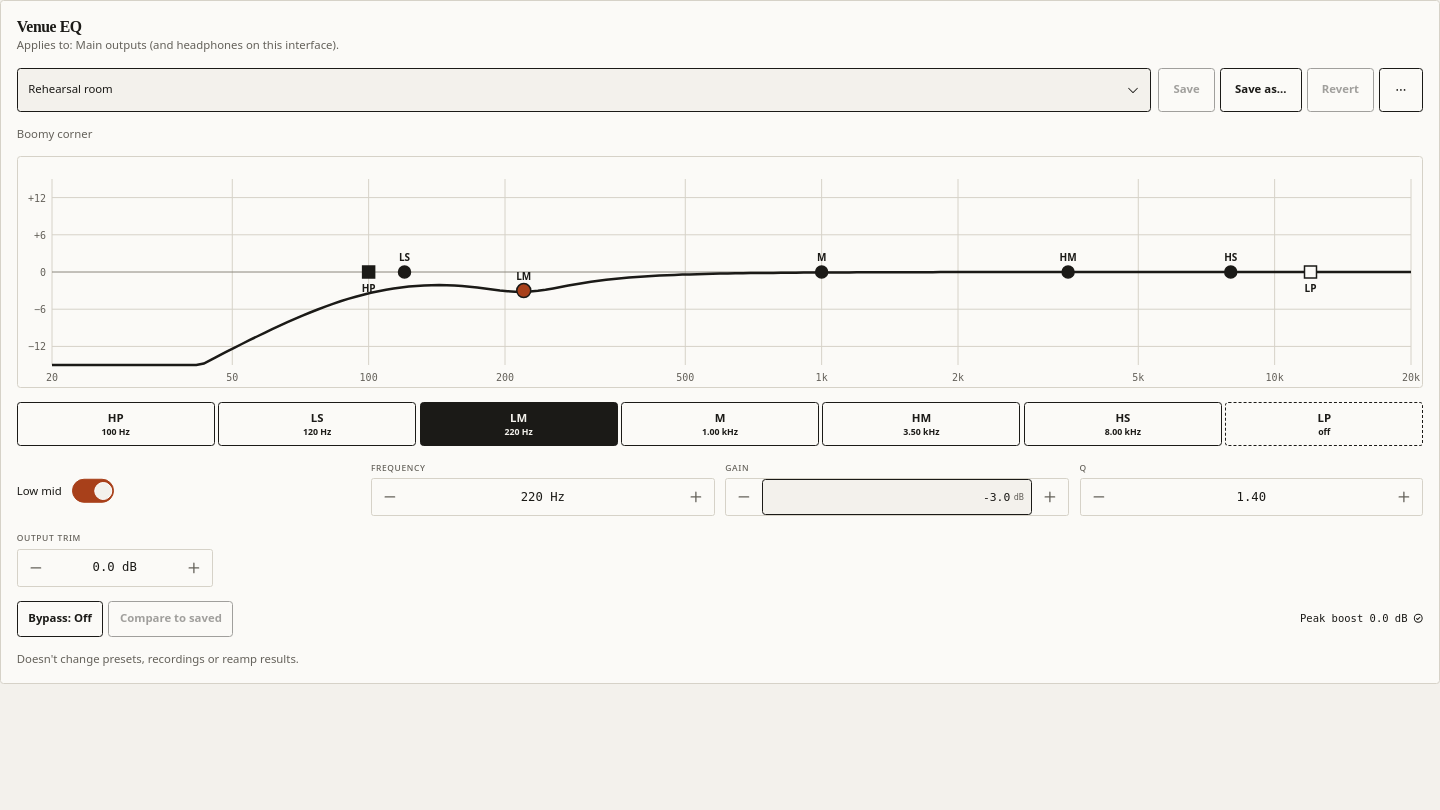
treats a 423 refusal as Protect
Check: the dropdown named "Venue profile" is shown, box x1=17 y1=68 x2=1152 y2=112
Click the button "Bypass: Off". click: (60, 619)
box: x1=17 y1=601 x2=103 y2=637
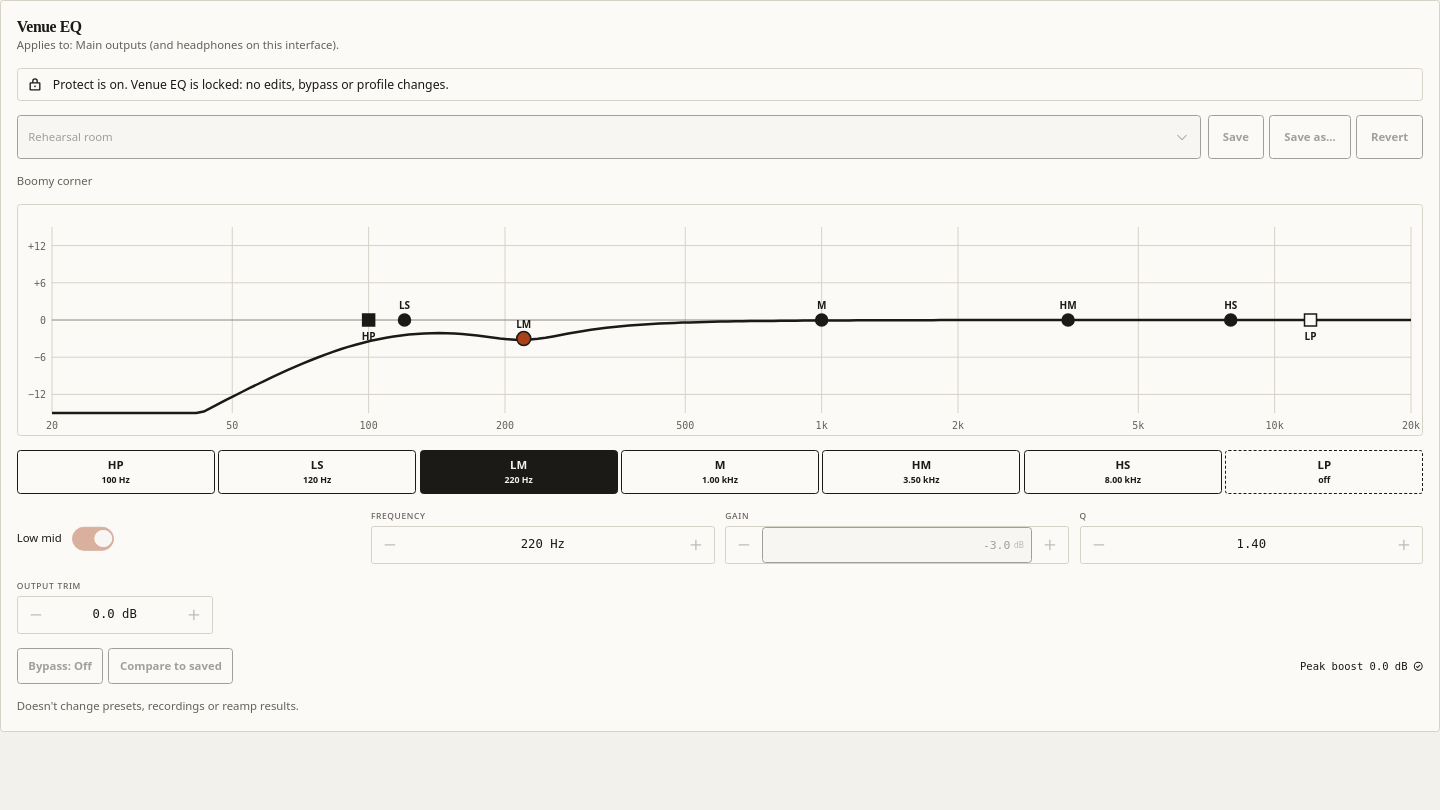
Check: the text "Protect is on. Venue EQ is locked: no edits, bypass or profile changes." is shown, box x1=53 y1=76 x2=449 y2=93
Check: the button "Bypass: Off" is disabled, box x1=17 y1=648 x2=103 y2=684
